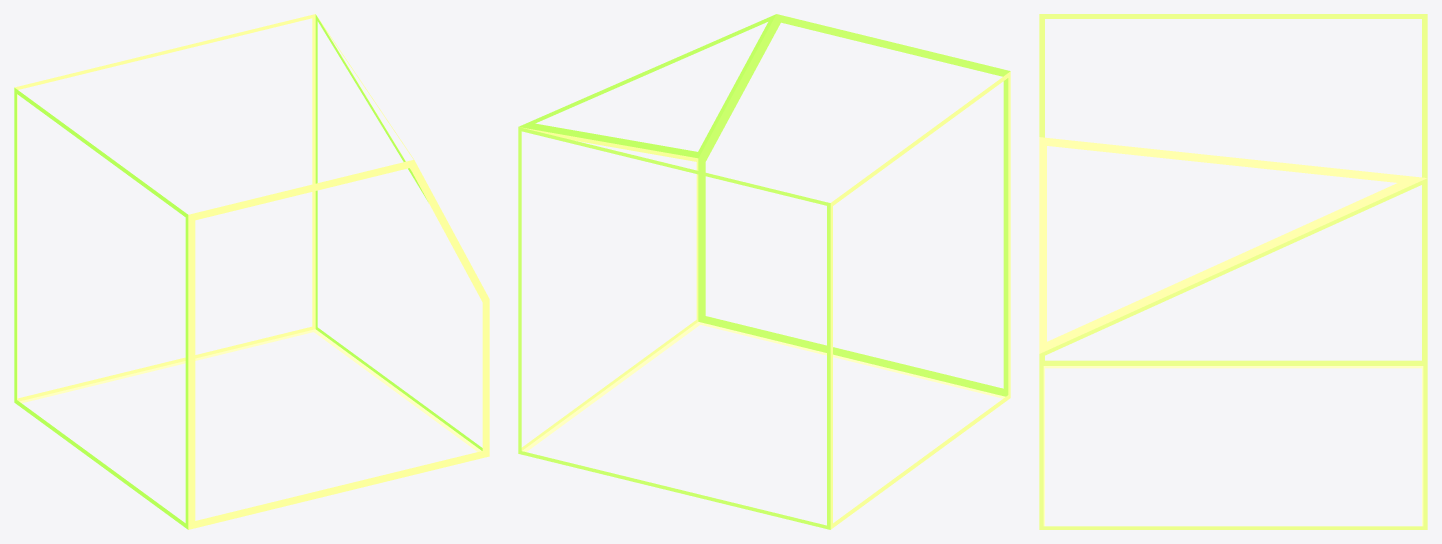
File: r5c4_highlight_green.glb
3 views of the same model, side by side, from view 1: azimuth 30°, elevation 25°; view 2: azimuth 150°, elevation 25°; view 3: azimuth 270°, elevation 25° (orthographic). The views are drawn at different scales.
Visible parts, largest first — view 1: r5c4_highlight_green; view 2: r5c4_highlight_green; view 3: r5c4_highlight_green.
Boxes of the visible parts, x1,y1,x2,y2 form: r5c4_highlight_green: (14, 14, 489, 529); r5c4_highlight_green: (518, 14, 1010, 529); r5c4_highlight_green: (1039, 14, 1427, 529).
Size of the model in its own units: 2 by 2 by 2.
